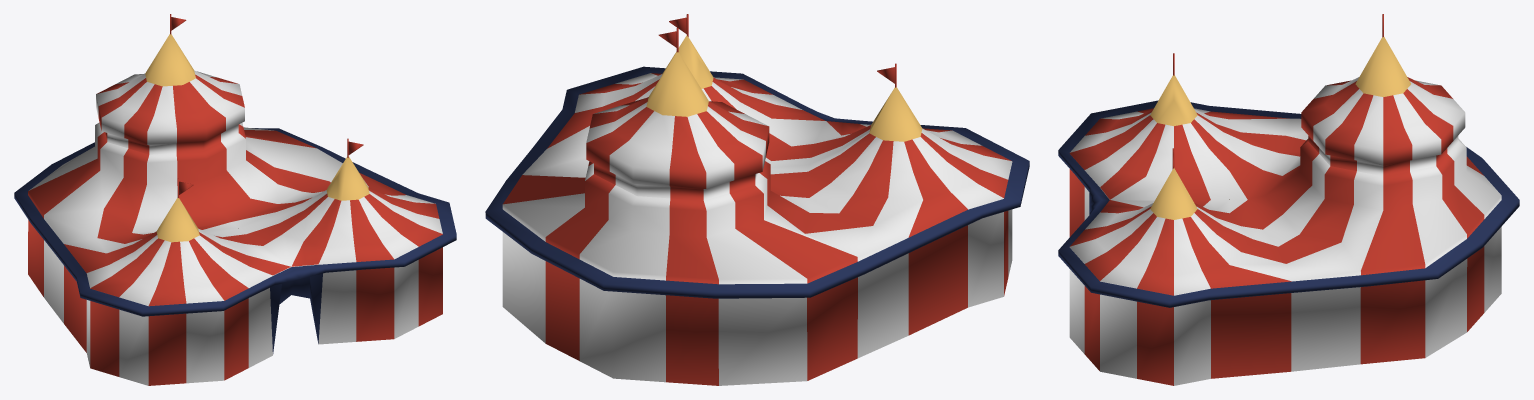
Rendered from circus tent.fbx.
3 renders of one model, left to right at view 1: azimuth 30°, elevation 25°; view 2: azimuth 150°, elevation 25°; view 3: azimuth 270°, elevation 25°, orthographic. The views are drawn at different scales.
Visible parts, largest first — view 1: Tent Outside, Flags; view 2: Tent Outside, Flags; view 3: Tent Outside.
Part boxes in pixels (box(x1,y1,x2,y2)): Tent Outside: box(14, 34, 456, 385); Flags: box(170, 14, 363, 197); Tent Outside: box(485, 35, 1029, 385); Flags: box(658, 14, 896, 87); Tent Outside: box(1058, 37, 1519, 385).
Size of the model in its own units: 5601 by 3580 by 5357.
